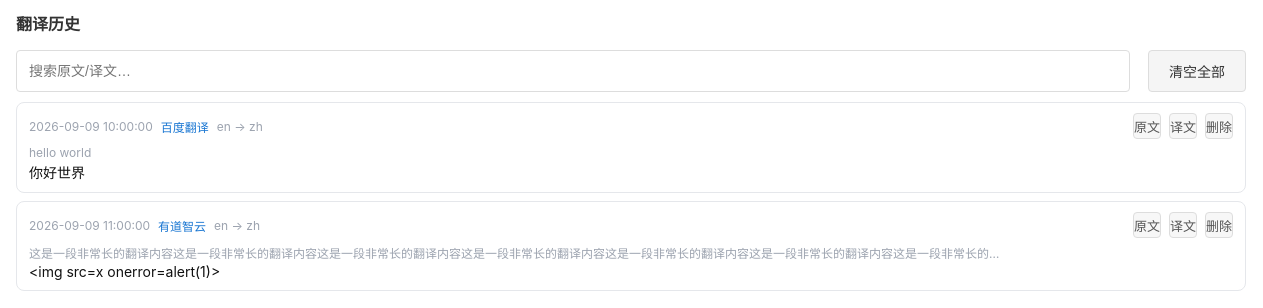
Test: HistoryPanel（翻译历史页） › 可用性: 搜索无结果显示'无匹配记录'
Expected: the text "hello world" is shown, [29,145,91,160]
In the field with placeholder "搜索原文/译文…": (573, 71) [16,50,1130,92], type "不存在的关键词xyz"
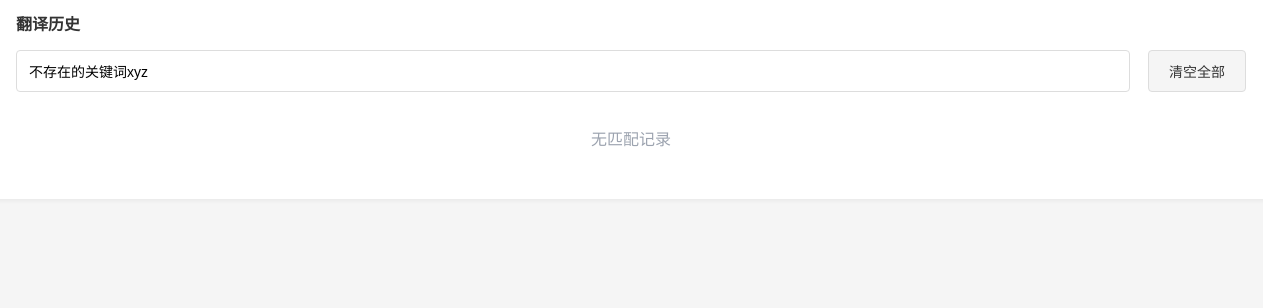
Result: the text "无匹配记录" is shown at [591,129,671,149]
